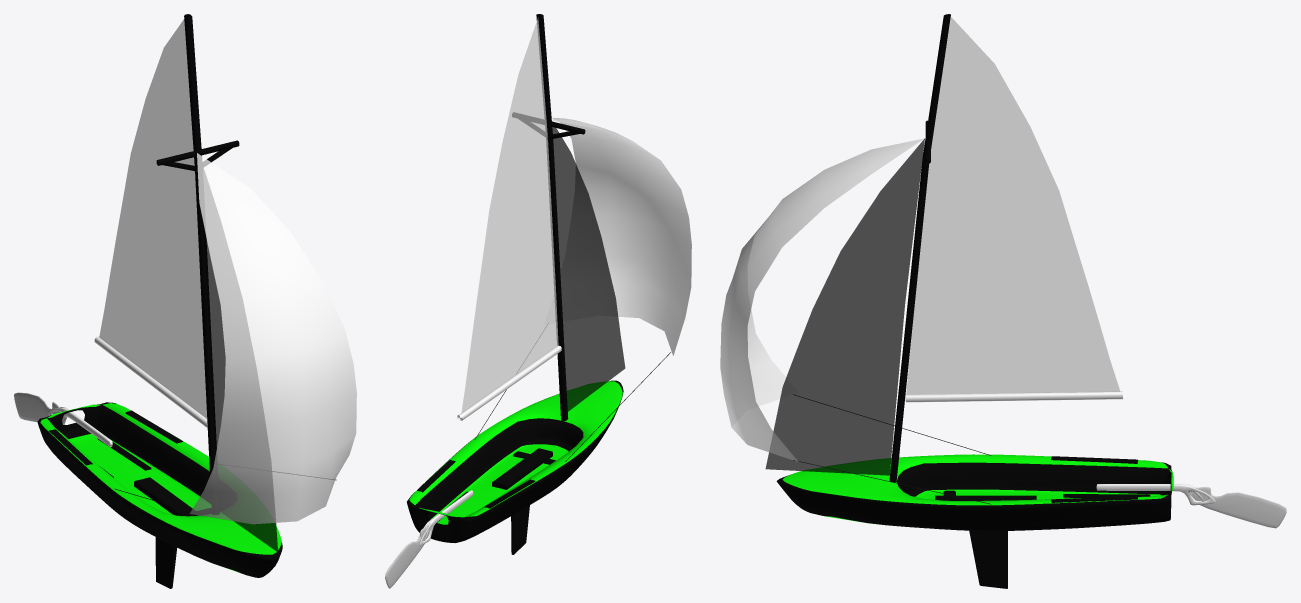
Rendered from SailingBoat470gamemodesl.fbx.
3 views of the same model, side by side, from view 1: azimuth 30°, elevation 25°; view 2: azimuth 150°, elevation 25°; view 3: azimuth 270°, elevation 25° (orthographic). The views are drawn at different scales.
Visible parts, largest first — view 1: jibsail:SpinSail1, mainbort:Body4, pCube17, rader:oar, pCube13; view 2: mainbort:Body4, jibsail:SpinSail1, pCube17, rader:oar, pCube13; view 3: mainbort:Body4, pCube17, jibsail:SpinSail1, rader:oar, pCube13.
Boxes of the visible parts, x1,y1,x2,y2 form: jibsail:SpinSail1: [114, 153, 356, 524]; mainbort:Body4: [37, 14, 282, 588]; pCube17: [94, 19, 207, 427]; rader:oar: [14, 392, 59, 421]; pCube13: [48, 407, 112, 447]; mainbort:Body4: [407, 14, 625, 554]; jibsail:SpinSail1: [474, 117, 691, 461]; pCube17: [457, 17, 561, 420]; rader:oar: [385, 527, 430, 588]; pCube13: [417, 490, 473, 545]; mainbort:Body4: [765, 14, 1173, 588]; pCube17: [905, 17, 1123, 402]; jibsail:SpinSail1: [720, 138, 991, 504]; rader:oar: [1191, 487, 1286, 528]; pCube13: [1096, 484, 1215, 505].
Size of the model in its own units: 23.1 by 88.77 by 79.48.
